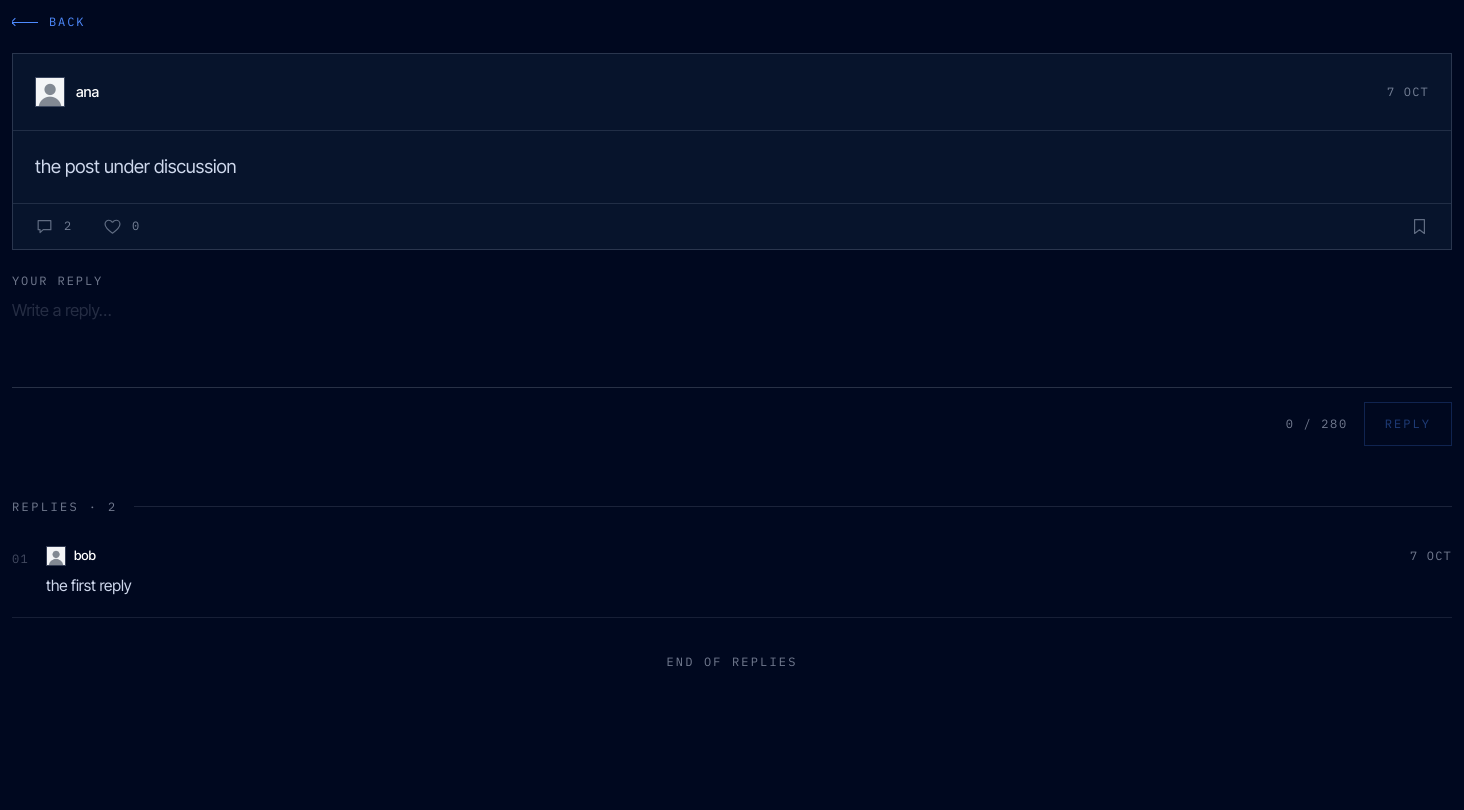
Test case: sending a reply › should_show_the_sent_reply_first_and_raise_the_count_by_one_when_a_reply_is_sent
Click the text box labelled "YOUR REPLY".
click(732, 342)  # box [12,298,1452,387]
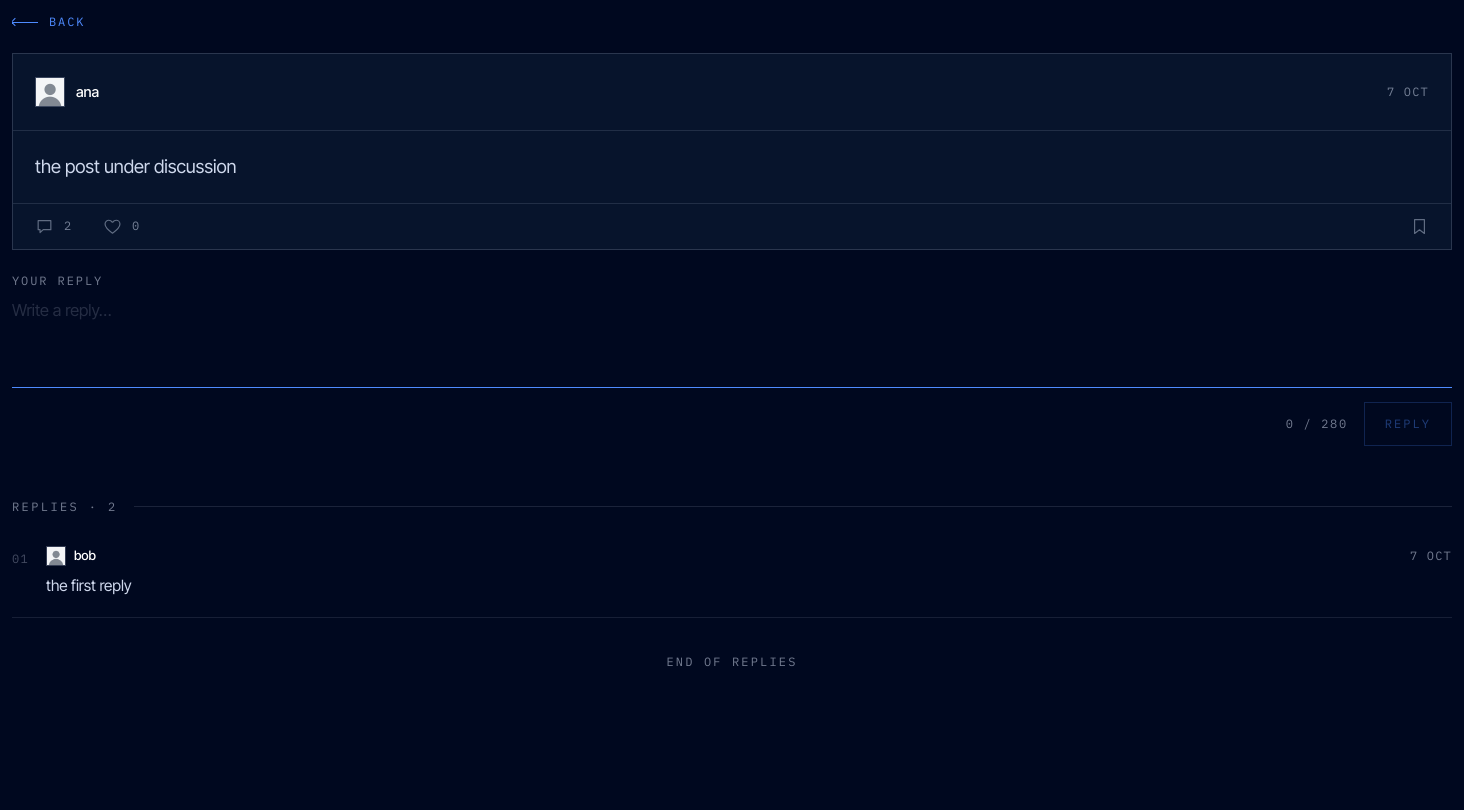
Type keys "the second reply"
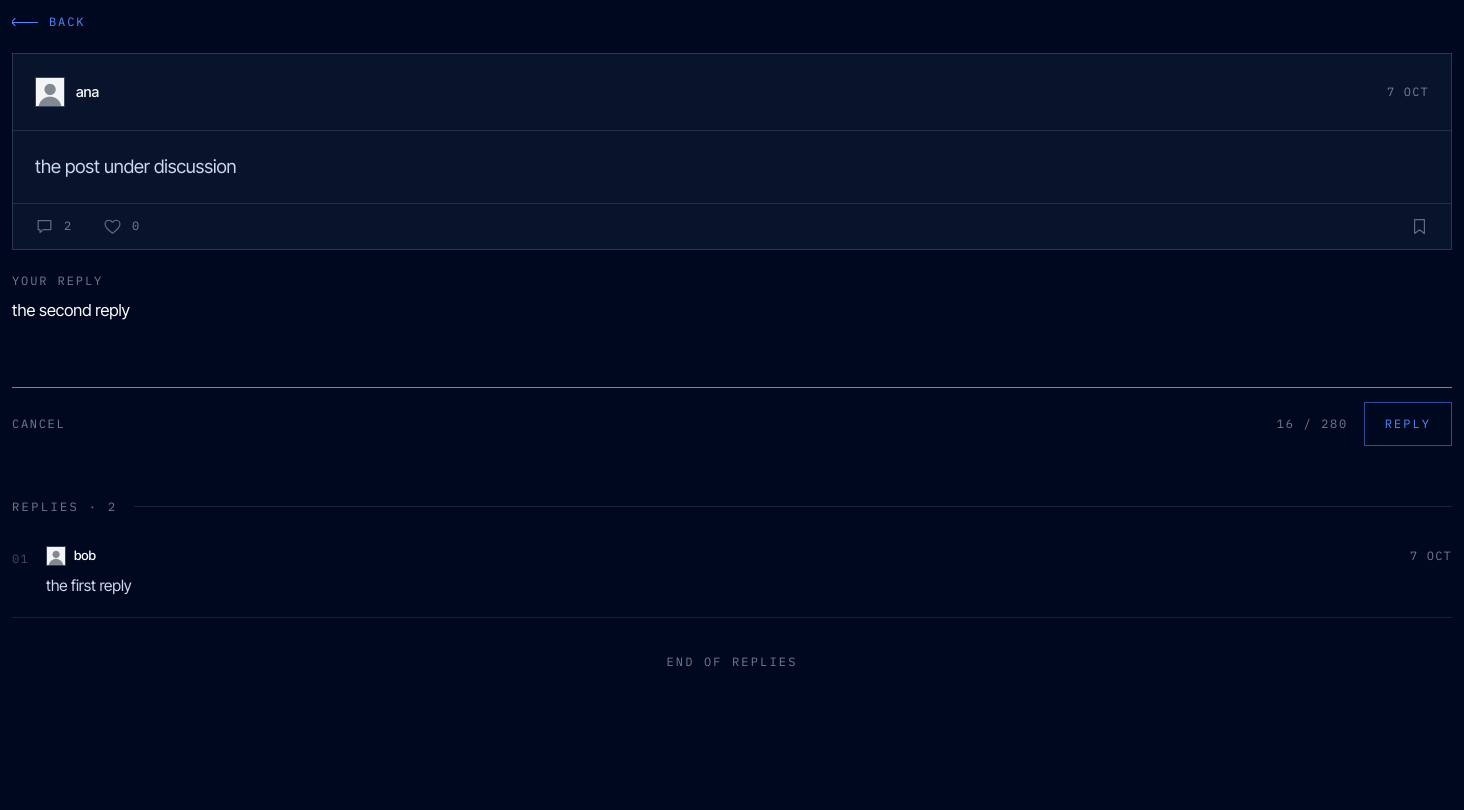
Click the button "REPLY".
click(1408, 424)  # box [1364,402,1452,446]
Wait 1 ms
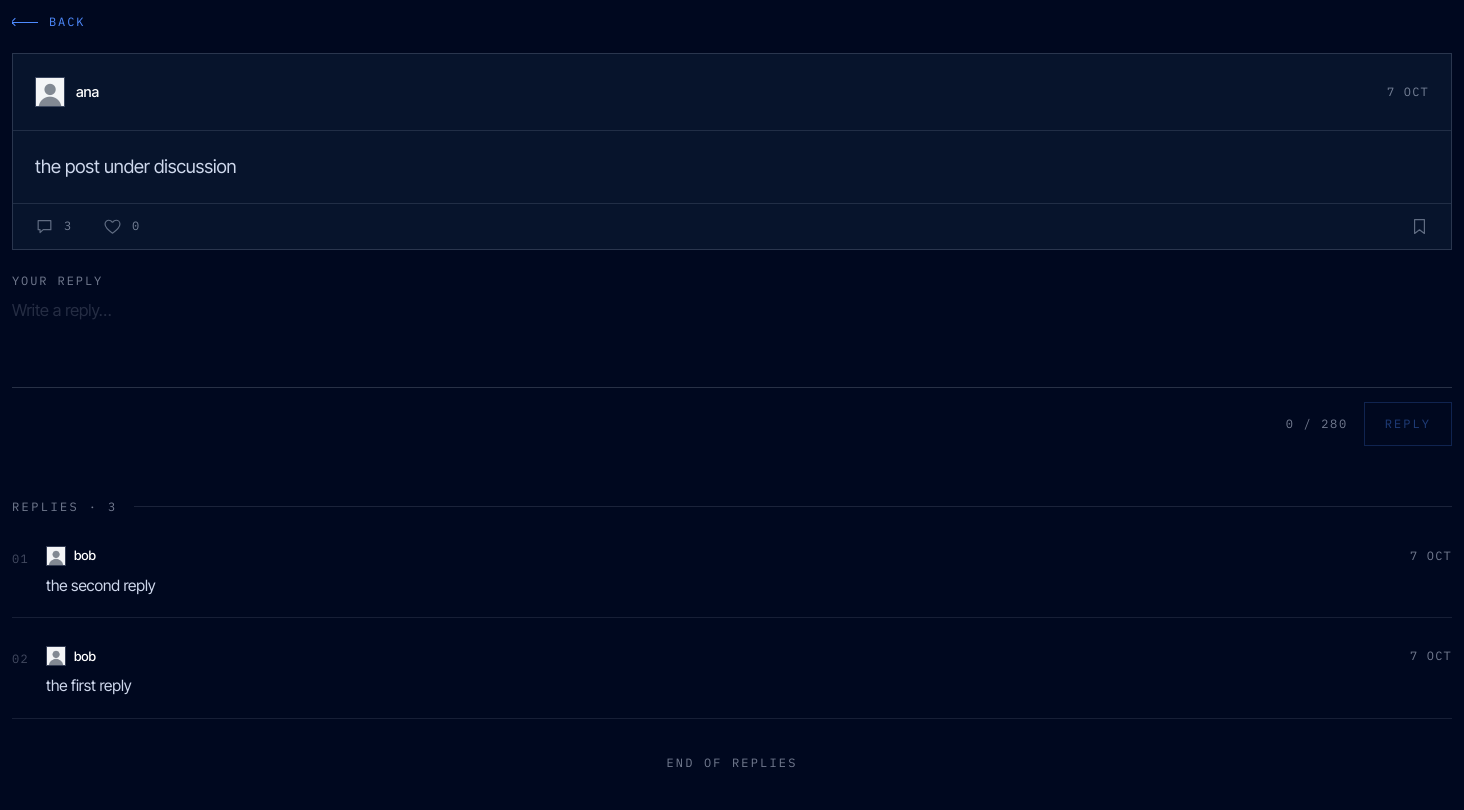
Expected: the element named "Reply by" shows "the first reply", [46,676,132,695]
Expected: the element named "Reply by" shows "the second reply", [46,576,156,595]
Expected: the button "Replies" reads "3", [64,218,72,233]
